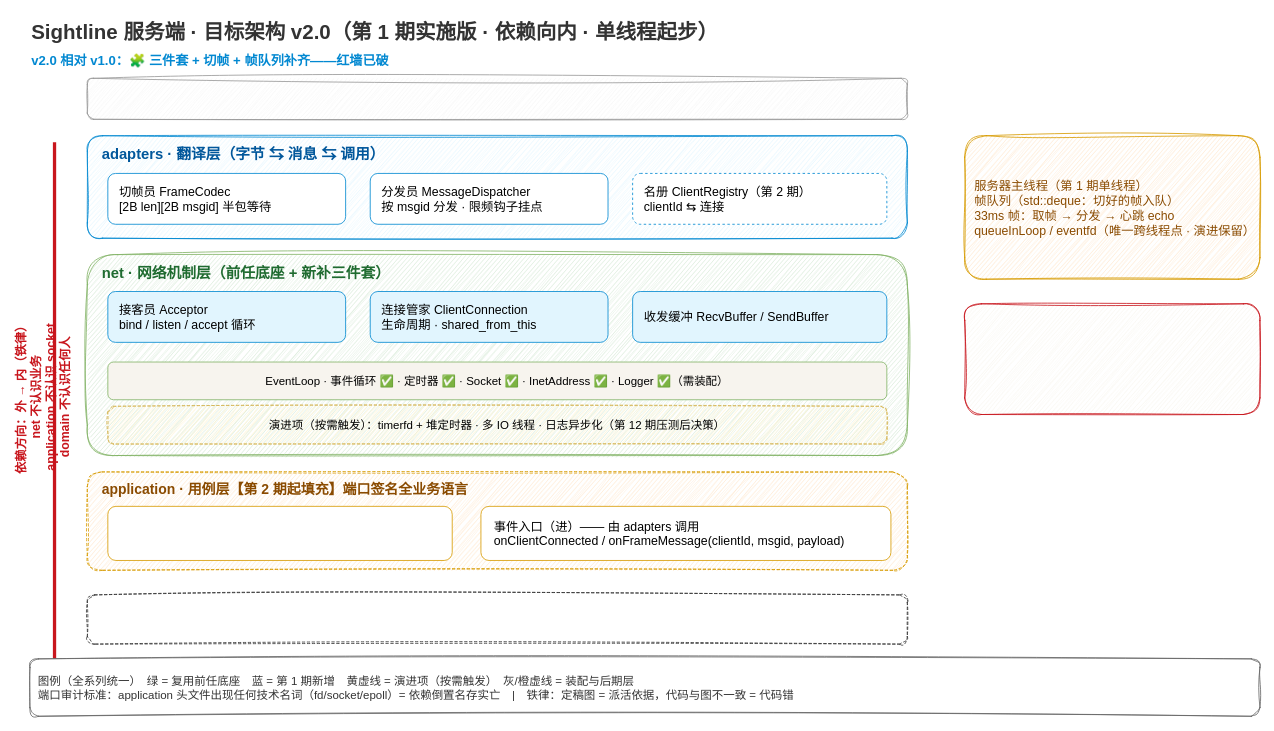
Image size: 1274x731. Some labels were removed from this diagram. Here are the shapes that lost their labels. From the top down, the centre of each, then its label:
At pixel 497 98: "main.cpp · 组装根：日志装配 · SIGPIPE · 接线 · 开跑（最脏的一层，只干装配）".
At pixel 1112 359: "容量论证 16 人 × 几十条/秒 ≈ 千级消息/秒 vs 单线程十万级/秒——余量百倍 先正确后并行".
At pixel 279 533: "能力端口（出） sendToClient(clientId, bytes) schedule(ms, cb) / cancel".
At pixel 497 619: "domain · 纯规则，零 IO 零框架（脱离一切可单测）【第 2 期起填充】房间状态机 · Player · hitscan".
